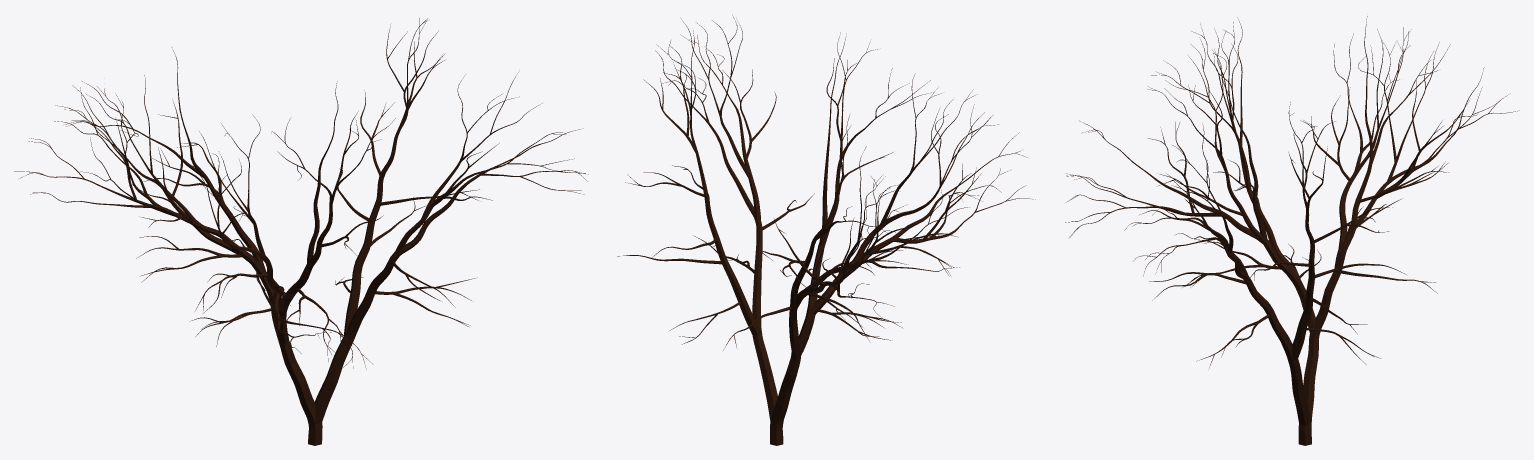
Rendered from dryPurpleTreeL.fbx.
3 renders of one model, left to right at view 1: azimuth 30°, elevation 25°; view 2: azimuth 150°, elevation 25°; view 3: azimuth 270°, elevation 25°, orthographic. The views are drawn at different scales.
Parts seen in each view (by area): view 1: dryPurpleTreeL, dryPurpleTreeL2, dryPurpleTreeL1; view 2: dryPurpleTreeL, dryPurpleTreeL2, dryPurpleTreeL1; view 3: dryPurpleTreeL, dryPurpleTreeL2, dryPurpleTreeL1.
Boxes of the visible parts, box(x1,y1,x2,y2) form: dryPurpleTreeL: box(14, 18, 588, 445); dryPurpleTreeL2: box(25, 18, 584, 443); dryPurpleTreeL1: box(26, 25, 585, 445); dryPurpleTreeL: box(617, 15, 1030, 445); dryPurpleTreeL2: box(630, 17, 1027, 445); dryPurpleTreeL1: box(618, 26, 1023, 445); dryPurpleTreeL: box(1065, 16, 1519, 445); dryPurpleTreeL2: box(1072, 17, 1510, 439); dryPurpleTreeL1: box(1072, 24, 1502, 445).
Bounding box in the file's own units: 552 × 492 × 526.
